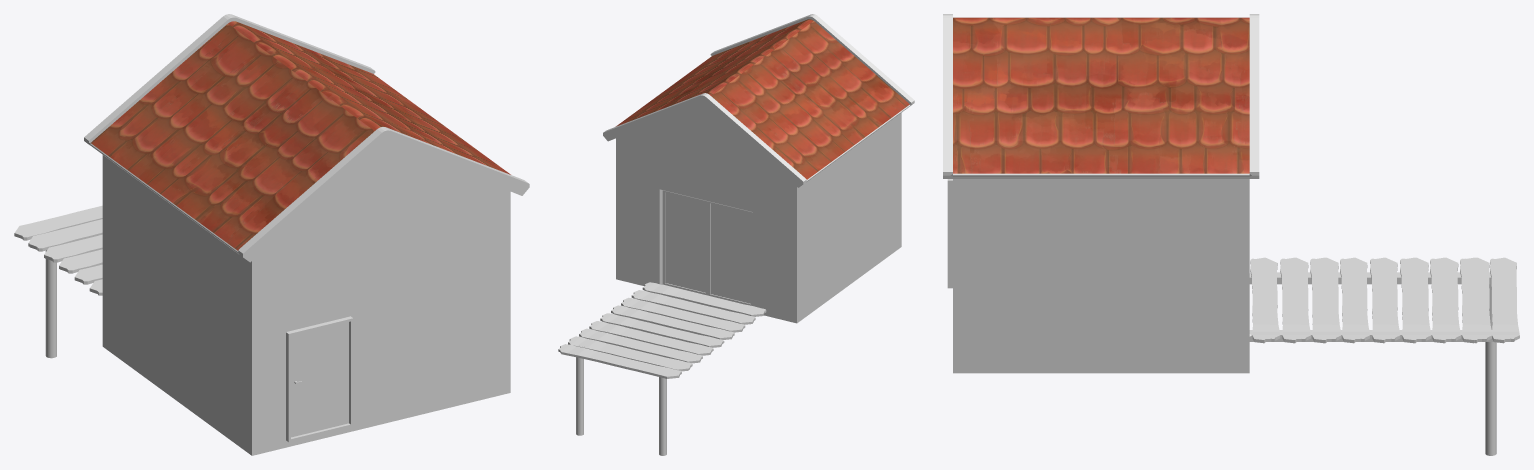
Rendered from dock4_Texture.fbx.
3 views of the same model, side by side, from view 1: azimuth 30°, elevation 25°; view 2: azimuth 150°, elevation 25°; view 3: azimuth 270°, elevation 25° (orthographic). The views are drawn at different scales.
Parts seen in each view (by area): view 1: BuildingWalls, Roof, Door1, Plank, Cylinder, Plank.007, Plank.006, Plank.005; view 2: BuildingWalls, Roof, Door, Plank, Cylinder, Plank.004, Plank.006, Plank.005, Plank.007, Plank.002, Plank.003, Plank.001; view 3: BuildingWalls, Roof, Plank, Plank.007, Plank.006, Plank.005, Plank.004, Plank.002, Plank.003, Plank.001, Cylinder, Door1.
Boxes of the visible parts, x1=… form: BuildingWalls: x1=102, y1=141, x2=510, y2=455; Roof: x1=84, y1=14, x2=529, y2=262; Door1: x1=286, y1=316, x2=353, y2=442; Plank: x1=14, y1=205, x2=102, y2=295; Cylinder: x1=45, y1=250, x2=56, y2=358; Plank.007: x1=28, y1=219, x2=102, y2=250; Plank.006: x1=44, y1=234, x2=102, y2=261; Plank.005: x1=59, y1=249, x2=102, y2=272; BuildingWalls: x1=616, y1=103, x2=901, y2=323; Roof: x1=603, y1=14, x2=914, y2=187; Door: x1=662, y1=190, x2=752, y2=305; Plank: x1=558, y1=282, x2=766, y2=378; Cylinder: x1=576, y1=357, x2=666, y2=455; Plank.004: x1=600, y1=313, x2=723, y2=347; Plank.006: x1=579, y1=329, x2=702, y2=363; Plank.005: x1=589, y1=321, x2=712, y2=355; Plank.007: x1=568, y1=337, x2=691, y2=371; Plank.002: x1=621, y1=298, x2=744, y2=332; Plank.003: x1=611, y1=305, x2=734, y2=338; Plank.001: x1=631, y1=290, x2=755, y2=324; BuildingWalls: x1=953, y1=179, x2=1493, y2=373; Roof: x1=943, y1=14, x2=1259, y2=178; Plank: x1=1250, y1=257, x2=1519, y2=343; Plank.007: x1=1462, y1=257, x2=1492, y2=343; Plank.006: x1=1431, y1=257, x2=1460, y2=343; Plank.005: x1=1401, y1=257, x2=1431, y2=343; Plank.004: x1=1370, y1=258, x2=1400, y2=342; Plank.002: x1=1311, y1=257, x2=1341, y2=343; Plank.003: x1=1340, y1=258, x2=1369, y2=343; Plank.001: x1=1281, y1=257, x2=1310, y2=343; Cylinder: x1=1485, y1=284, x2=1496, y2=455; Door1: x1=947, y1=179, x2=952, y2=288.
Size of the model in its own units: 886 by 1219 by 1554.
